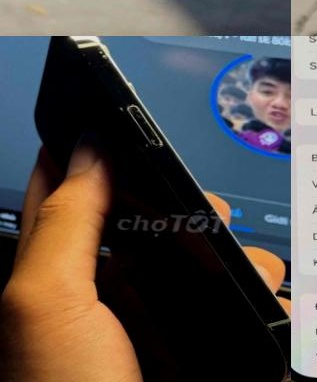scratch: (66, 36, 181, 164), (187, 203, 276, 312)
